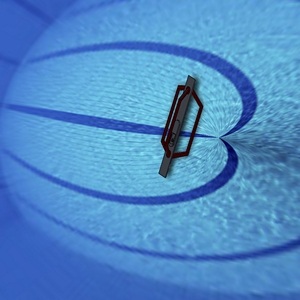submarine: (143, 60, 220, 189)
